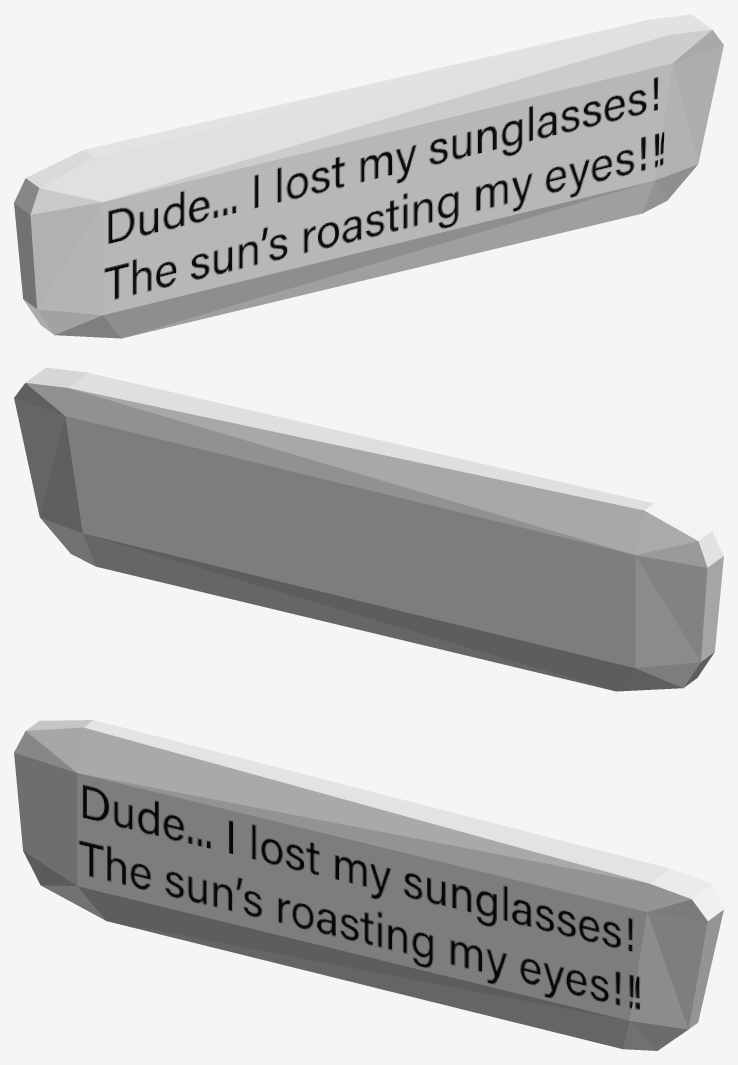
Rendered from 042620ant04textBubbleTextured.gltf.
The picture shows the model from 3 angles, top to bottom: view 1: azimuth 30°, elevation 25°; view 2: azimuth 150°, elevation 25°; view 3: azimuth 330°, elevation 25°; orthographic projection.
Parts seen in each view (by area): view 1: ant04; view 2: ant04; view 3: ant04.
Boxes of the visible parts, x1=… form: ant04: x1=14, y1=14, x2=723, y2=338; ant04: x1=14, y1=367, x2=723, y2=691; ant04: x1=14, y1=720, x2=723, y2=1050.
Bounding box in the file's own units: 6.42 × 1.64 × 0.4079.
Materials: 1 (1 with a texture image).
